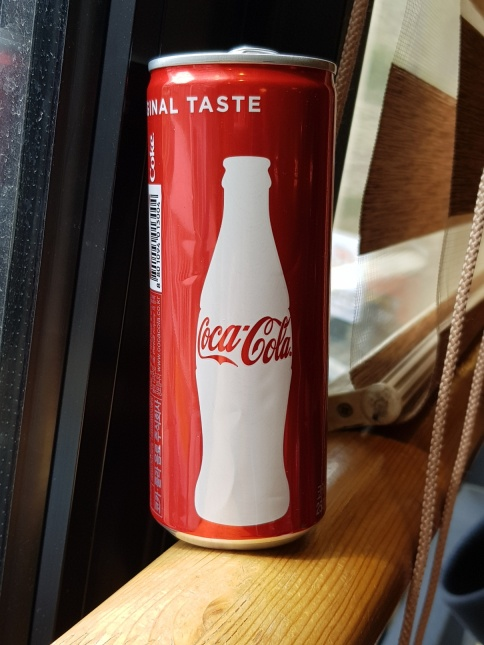Can: (138, 44, 334, 557)
